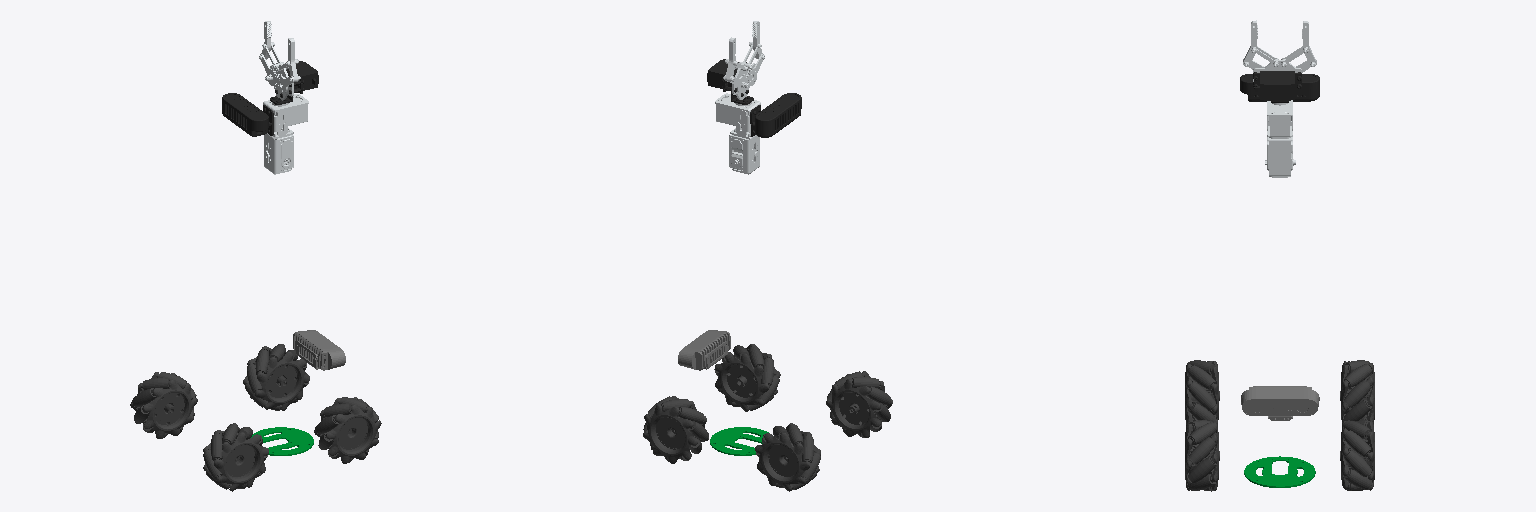
--- What the picture shows (computed from the rendered views, not written in the file) ---
Views: 3 orthographic renders of the robot side by side, from view 1: azimuth 30°, elevation 25°; view 2: azimuth 150°, elevation 25°; view 3: azimuth 270°, elevation 25°.
Model M3Pro with 20 links and 19 joints (11 revolute, 5 continuous, 3 fixed), rooted at base_link, posed all joints at 0.
Visible links, largest first — view 1: rwheel2, lwheel2, rwheel1, lwheel1, arm4, DCW2, Camera, arm_base_Link, arm5; view 2: lwheel2, lwheel1, rwheel2, rwheel1, arm4, DCW2, Camera, arm_base_Link, arm5; view 3: lwheel1, rwheel1, Camera, rwheel2, lwheel2, arm4, arm_base_Link, arm5, DCW2.
Link boxes in pixels (bbox=[...]): rwheel2: bbox=[203, 423, 268, 491]; lwheel2: bbox=[130, 372, 197, 438]; rwheel1: bbox=[314, 397, 381, 463]; lwheel1: bbox=[243, 344, 309, 410]; arm4: bbox=[263, 94, 308, 174]; DCW2: bbox=[222, 93, 273, 136]; Camera: bbox=[293, 330, 345, 370]; arm_base_Link: bbox=[251, 427, 313, 455]; arm5: bbox=[270, 61, 318, 104]; lwheel2: bbox=[755, 423, 820, 491]; lwheel1: bbox=[643, 396, 708, 463]; rwheel2: bbox=[826, 371, 892, 437]; rwheel1: bbox=[714, 344, 780, 411]; arm4: bbox=[715, 93, 760, 174]; DCW2: bbox=[750, 93, 801, 137]; Camera: bbox=[678, 330, 730, 370]; arm_base_Link: bbox=[710, 427, 768, 455]; arm5: bbox=[707, 59, 753, 104]; lwheel1: bbox=[1340, 420, 1374, 490]; rwheel1: bbox=[1185, 420, 1219, 491]; Camera: bbox=[1241, 386, 1319, 420]; rwheel2: bbox=[1185, 360, 1219, 425]; lwheel2: bbox=[1340, 360, 1374, 423]; arm4: bbox=[1265, 100, 1295, 177]; arm_base_Link: bbox=[1244, 456, 1315, 487]; arm5: bbox=[1253, 71, 1301, 102]; DCW2: bbox=[1240, 74, 1319, 101].
Size in the robot's own frame: 0.239 by 0.2124 by 0.5577 metres.
Meshes: 20 distinct files referenced, 16 mesh visuals loaded (16 binary STL); not drawn: 4 (reference not matched to a file when rendering).

The robot description file, URDF, robot "M3Pro":
<?xml version="1.0" encoding="utf-8"?>
<!-- This URDF was automatically created by SolidWorks to URDF Exporter! Originally created by Stephen Brawner ([email redacted]) 
     Commit Version: 1.6.0-1-g15f4949  Build Version: 1.6.7594.29634
     For more information, please see http://wiki.ros.org/sw_urdf_exporter -->
<robot
  name="M3Pro">
  <link
    name="base_link">
    <inertial>
      <origin
        xyz="-0.0230945655800945 -0.000624366433481225 0.0924263074305092"
        rpy="0 0 0" />
      <mass
        value="0.870994544286568" />
      <inertia
        ixx="0.000924360334406296"
        ixy="1.83790425775432E-06"
        ixz="-6.57330050239333E-05"
        iyy="0.000965356496722674"
        iyz="4.19061203028733E-07"
        izz="0.00166592475388463" />
    </inertial>
    <visual>
      <origin
        xyz="0 0 0"
        rpy="0 0 0" />
      <geometry>
        <mesh
          filename="package://yahboom_M3Pro_description/meshes/base_link.STL" />
      </geometry>
      <material
        name="">
        <color
          rgba="0.501960784313725 0.501960784313725 0.501960784313725 1" />
      </material>
    </visual>
    <collision>
      <origin
        xyz="0 0 0"
        rpy="0 0 0" />
      <geometry>
        <mesh
          filename="package://yahboom_M3Pro_description/meshes/base_link.STL" />
      </geometry>
    </collision>
  </link>
  <link
    name="arm1">
    <inertial>
      <origin
        xyz="2.13576742485247E-05 -2.28857785706467E-05 0.0108850983929158"
        rpy="0 0 0" />
      <mass
        value="0.0244386203628613" />
      <inertia
        ixx="4.13079555955957E-06"
        ixy="-1.72852152063151E-08"
        ixz="-1.39537126643453E-11"
        iyy="3.52401933966849E-06"
        iyz="-4.29462638561802E-15"
        izz="6.04483581225878E-06" />
    </inertial>
    <visual>
      <origin
        xyz="0 0 0"
        rpy="0 0 0" />
      <geometry>
        <mesh
          filename="package://yahboom_M3Pro_description/meshes/arm1.STL" />
      </geometry>
      <material
        name="">
        <color
          rgba="0.776470588235294 0.756862745098039 0.737254901960784 1" />
      </material>
    </visual>
    <collision>
      <origin
        xyz="0 0 0"
        rpy="0 0 0" />
      <geometry>
        <mesh
          filename="package://yahboom_M3Pro_description/meshes/arm1.STL" />
      </geometry>
    </collision>
  </link>
  <joint
    name="arm1_Joint"
    type="revolute">
    <origin
      xyz="0.033617 -1.2421E-05 0.185"
      rpy="6.3751E-05 0 0.028395" />
    <parent
      link="base_link" />
    <child
      link="arm1" />
    <axis
      xyz="0 0 1" />
    <limit
      lower="-1.5708"
      upper="1.5708"
      effort="100"
      velocity="1" />
  </joint>
  <link
    name="arm2">
    <inertial>
      <origin
        xyz="-0.000602027217738395 -9.2755825148514E-05 0.0264032863094033"
        rpy="0 0 0" />
      <mass
        value="0.061498670238648" />
      <inertia
        ixx="2.10648493212753E-05"
        ixy="1.83881276274714E-11"
        ixz="-1.39661642924236E-11"
        iyy="1.64229081716352E-05"
        iyz="3.60299486579141E-08"
        izz="9.72287810088419E-06" />
    </inertial>
    <visual>
      <origin
        xyz="0 0 0"
        rpy="0 0 0" />
      <geometry>
        <mesh
          filename="package://yahboom_M3Pro_description/meshes/arm2.STL" />
      </geometry>
      <material
        name="">
        <color
          rgba="0.898039215686275 0.917647058823529 0.929411764705882 1" />
      </material>
    </visual>
    <collision>
      <origin
        xyz="0 0 0"
        rpy="0 0 0" />
      <geometry>
        <mesh
          filename="package://yahboom_M3Pro_description/meshes/arm2.STL" />
      </geometry>
    </collision>
  </link>
  <joint
    name="arm2_Joint"
    type="revolute">
    <origin
      xyz="-0.0021522 6.1185E-05 0.033"
      rpy="-6.3725E-05 0 -0.028422" />
    <parent
      link="arm1" />
    <child
      link="arm2" />
    <axis
      xyz="0 -1 -6.3725E-05" />
    <limit
      lower="-1.5708"
      upper="1.5708"
      effort="100"
      velocity="1" />
  </joint>
  <link
    name="arm3">
    <inertial>
      <origin
        xyz="-0.000604373973045174 -7.46161728471504E-05 0.0258332880744843"
        rpy="0 0 0" />
      <mass
        value="0.0614986702381331" />
      <inertia
        ixx="2.10614227624559E-05"
        ixy="-1.2572378834838E-07"
        ixz="9.50458735304178E-10"
        iyy="1.64263399723813E-05"
        iyz="3.55900353840793E-08"
        izz="9.72287285883381E-06" />
    </inertial>
    <visual>
      <origin
        xyz="0 0 0"
        rpy="0 0 0" />
      <geometry>
        <mesh
          filename="package://yahboom_M3Pro_description/meshes/arm3.STL" />
      </geometry>
      <material
        name="">
        <color
          rgba="0.898039215686275 0.917647058823529 0.929411764705882 1" />
      </material>
    </visual>
    <collision>
      <origin
        xyz="0 0 0"
        rpy="0 0 0" />
      <geometry>
        <mesh
          filename="package://yahboom_M3Pro_description/meshes/arm3.STL" />
      </geometry>
    </collision>
  </link>
  <joint
    name="arm3_Joint"
    type="revolute">
    <origin
      xyz="0 0 0.08285"
      rpy="6.3702E-05 0 0.027102" />
    <parent
      link="arm2" />
    <child
      link="arm3" />
    <axis
      xyz="-0.027098 -0.99963 0" />
    <limit
      lower="-1.5708"
      upper="1.5708"
      effort="100"
      velocity="1" />
  </joint>
  <link
    name="arm4">
    <inertial>
      <origin
        xyz="0.00266200549544014 -5.48340040400364E-05 0.0318372301190443"
        rpy="0 0 0" />
      <mass
        value="0.0796731880981648" />
      <inertia
        ixx="1.74813997707965E-05"
        ixy="7.13964256475848E-11"
        ixz="-3.68971805126897E-07"
        iyy="1.97458440715167E-05"
        iyz="3.56144432379185E-08"
        izz="1.24210495582304E-05" />
    </inertial>
    <visual>
      <origin
        xyz="0 0 0"
        rpy="0 0 0" />
      <geometry>
        <mesh
          filename="package://yahboom_M3Pro_description/meshes/arm4.STL" />
      </geometry>
      <material
        name="">
        <color
          rgba="0.898039215686275 0.917647058823529 0.929411764705882 1" />
      </material>
    </visual>
    <collision>
      <origin
        xyz="0 0 0"
        rpy="0 0 0" />
      <geometry>
        <mesh
          filename="package://yahboom_M3Pro_description/meshes/arm4.STL" />
      </geometry>
    </collision>
  </link>
  <joint
    name="arm4_Joiint"
    type="revolute">
    <origin
      xyz="0 0 0.08285"
      rpy="0 0 -0.027075" />
    <parent
      link="arm3" />
    <child
      link="arm4" />
    <axis
      xyz="-2.6392E-05 -1 0" />
    <limit
      lower="-1.5708"
      upper="1.5708"
      effort="100"
      velocity="1" />
  </joint>
  <link
    name="arm5">
    <inertial>
      <origin
        xyz="0.0185860770163253 -0.00247043277342297 0.02651885056664"
        rpy="0 0 0" />
      <mass
        value="0.0410487746889131" />
      <inertia
        ixx="5.48142441634619E-06"
        ixy="-1.68884783349536E-08"
        ixz="-2.34748082215953E-08"
        iyy="1.91426924767358E-06"
        iyz="6.10349739295658E-13"
        izz="5.25321280573642E-06" />
    </inertial>
    <visual>
      <origin
        xyz="0 0 0"
        rpy="0 0 0" />
      <geometry>
        <mesh
          filename="package://yahboom_M3Pro_description/meshes/arm5.STL" />
      </geometry>
      <material
        name="">
        <color
          rgba="0.203921568627451 0.203921568627451 0.203921568627451 1" />
      </material>
    </visual>
    <collision>
      <origin
        xyz="0 0 0"
        rpy="0 0 0" />
      <geometry>
        <mesh
          filename="package://yahboom_M3Pro_description/meshes/arm5.STL" />
      </geometry>
    </collision>
  </link>
  <joint
    name="arm5_Joint"
    type="revolute">
    <origin
      xyz="0.00057305 0 0.074815"
      rpy="0 0 0" />
    <parent
      link="arm4" />
    <child
      link="arm5" />
    <axis
      xyz="0 0 1" />
    <limit
      lower="-1.5708"
      upper="1.5708"
      effort="100"
      velocity="1" />
  </joint>
  <link
    name="rlink1">
    <inertial>
      <origin
        xyz="0.00808925422025075 0.000355297443366931 -0.000464636431050911"
        rpy="0 0 0" />
      <mass
        value="0.00469661998528202" />
      <inertia
        ixx="1.02155544192725E-07"
        ixy="1.52484505407808E-08"
        ixz="-5.46876412347999E-14"
        iyy="4.52970831763651E-07"
        iyz="2.17247345042744E-13"
        izz="5.45544786553635E-07" />
    </inertial>
    <visual>
      <origin
        xyz="0 0 0"
        rpy="0 0 0" />
      <geometry>
        <mesh
          filename="package://yahboom_M3Pro_description/meshes/rlink1.STL" />
      </geometry>
      <material
        name="">
        <color
          rgba="0.898039215686275 0.917647058823529 0.929411764705882 1" />
      </material>
    </visual>
    <collision>
      <origin
        xyz="0 0 0"
        rpy="0 0 0" />
      <geometry>
        <mesh
          filename="package://yahboom_M3Pro_description/meshes/rlink1.STL" />
      </geometry>
    </collision>
  </link>
  <joint
    name="rlink1_Joint"
    type="revolute">
    <origin
      xyz="-0.0047503 -0.012625 0.029275"
      rpy="1.5708 -0.60409 -1.5708" />
    <parent
      link="arm5" />
    <child
      link="rlink1" />
    <axis
      xyz="0 0 -1" />
    <limit
      lower="-0.95"
      upper="0"
      effort="100"
      velocity="1" />
  </joint>
  <link
    name="rlink2">
    <inertial>
      <origin
        xyz="0.0225651191673617 0.00616269153903409 -0.0050000000000042"
        rpy="0 0 0" />
      <mass
        value="0.0061448729710299" />
      <inertia
        ixx="8.70635496412126E-08"
        ixy="-2.41958577832852E-07"
        ixz="-4.82763186156989E-21"
        iyy="1.49816948769928E-06"
        iyz="-8.06090738107193E-22"
        izz="1.57601572788395E-06" />
    </inertial>
    <visual>
      <origin
        xyz="0 0 0"
        rpy="0 0 0" />
      <geometry>
        <mesh
          filename="package://yahboom_M3Pro_description/meshes/rlink2.STL" />
      </geometry>
      <material
        name="">
        <color
          rgba="0.898039215686275 0.917647058823529 0.929411764705882 1" />
      </material>
    </visual>
    <collision>
      <origin
        xyz="0 0 0"
        rpy="0 0 0" />
      <geometry>
        <mesh
          filename="package://yahboom_M3Pro_description/meshes/rlink2.STL" />
      </geometry>
    </collision>
  </link>
  <joint
    name="rlink2_Joint"
    type="continuous">
    <origin
      xyz="0.03 0 0.001"
      rpy="0 0 0.9667" />
    <parent
      link="rlink1" />
    <child
      link="rlink2" />
    <axis
      xyz="0 0 1" />
    <mimic
      joint="rlink1_Joint"
      multiplier="1"
      offset="0" />
  </joint>
  <link
    name="llink1">
    <inertial>
      <origin
        xyz="0.00884602685100822 -0.000341813272146108 -0.00016945594279958"
        rpy="0 0 0" />
      <mass
        value="0.00426700564861881" />
      <inertia
        ixx="8.84336001135263E-08"
        ixy="-1.30950315021427E-08"
        ixz="2.18756702456485E-14"
        iyy="4.55511896537778E-07"
        iyz="1.2193651328645E-14"
        izz="5.36665215268909E-07" />
    </inertial>
    <visual>
      <origin
        xyz="0 0 0"
        rpy="0 0 0" />
      <geometry>
        <mesh
          filename="package://yahboom_M3Pro_description/meshes/llink1.STL" />
      </geometry>
      <material
        name="">
        <color
          rgba="0.898039215686275 0.917647058823529 0.929411764705882 1" />
      </material>
    </visual>
    <collision>
      <origin
        xyz="0 0 0"
        rpy="0 0 0" />
      <geometry>
        <mesh
          filename="package://yahboom_M3Pro_description/meshes/llink1.STL" />
      </geometry>
    </collision>
  </link>
  <joint
    name="llink1_Joint"
    type="continuous">
    <origin
      xyz="-0.0044997 0.012375 0.029275"
      rpy="-1.5708 -0.60318 1.5708" />
    <parent
      link="arm5" />
    <child
      link="llink1" />
    <axis
      xyz="0 0 1" />
    <mimic
      joint="rlink1_Joint"
      multiplier="1"
      offset="0" />
  </joint>
  <link
    name="llink2">
    <inertial>
      <origin
        xyz="0.0226281369502883 -0.00592712309529711 -0.00525000000000398"
        rpy="0 0 0" />
      <mass
        value="0.0061448729710299" />
      <inertia
        ixx="8.21725042549684E-08"
        ixy="2.27196496174757E-07"
        ixz="-9.0829521896073E-21"
        iyy="1.50306053308553E-06"
        iyz="1.34351902937085E-21"
        izz="1.57601572788395E-06" />
    </inertial>
    <visual>
      <origin
        xyz="0 0 0"
        rpy="0 0 0" />
      <geometry>
        <mesh
          filename="package://yahboom_M3Pro_description/meshes/llink2.STL" />
      </geometry>
      <material
        name="">
        <color
          rgba="0.898039215686275 0.917647058823529 0.929411764705882 1" />
      </material>
    </visual>
    <collision>
      <origin
        xyz="0 0 0"
        rpy="0 0 0" />
      <geometry>
        <mesh
          filename="package://yahboom_M3Pro_description/meshes/llink2.STL" />
      </geometry>
    </collision>
  </link>
  <joint
    name="llink2_Joint"
    type="continuous">
    <origin
      xyz="0.03 0 0.00125"
      rpy="0 0 -0.96762" />
    <parent
      link="llink1" />
    <child
      link="llink2" />
    <axis
      xyz="0 0 1" />
    <mimic
      joint="rlink1_Joint"
      multiplier="-1"
      offset="0" />
  </joint>
  <link
    name="rlink3">
    <inertial>
      <origin
        xyz="0.0147913116377826 -6.00954347396154E-09 -0.00271410065781013"
        rpy="0 0 0" />
      <mass
        value="0.00270971831665017" />
      <inertia
        ixx="9.18474957109399E-09"
        ixy="-3.01596710140765E-18"
        ixz="-2.75331334941317E-20"
        iyy="1.63607734900967E-07"
        iyz="-7.81375037841199E-16"
        izz="1.63254833713142E-07" />
    </inertial>
    <visual>
      <origin
        xyz="0 0 0"
        rpy="0 0 0" />
      <geometry>
        <mesh
          filename="package://yahboom_M3Pro_description/meshes/rlink3.STL" />
      </geometry>
      <material
        name="">
        <color
          rgba="0.898039215686275 0.917647058823529 0.929411764705882 1" />
      </material>
    </visual>
    <collision>
      <origin
        xyz="0 0 0"
        rpy="0 0 0" />
      <geometry>
        <mesh
          filename="package://yahboom_M3Pro_description/meshes/rlink3.STL" />
      </geometry>
    </collision>
  </link>
  <joint
    name="rlink3_Joint"
    type="continuous">
    <origin
      xyz="-0.0045001 -0.0044999 0.047275"
      rpy="1.5708 -0.61261 -1.5708" />
    <parent
      link="arm5" />
    <child
      link="rlink3" />
    <axis
      xyz="0 0 1" />
    <mimic
      joint="rlink1_Joint"
      multiplier="-1"
      offset="0" />
  </joint>
  <link
    name="llink3">
    <inertial>
      <origin
        xyz="0.0147913116377242 -8.49320613838245E-15 -0.00271410065781674"
        rpy="0 0 0" />
      <mass
        value="0.00270971831665017" />
      <inertia
        ixx="9.18474957533229E-09"
        ixy="-1.99555668417193E-19"
        ixz="4.30043464580738E-20"
        iyy="1.63607734896731E-07"
        iyz="1.5019648698602E-20"
        izz="1.63254833713141E-07" />
    </inertial>
    <visual>
      <origin
        xyz="0 0 0"
        rpy="0 0 0" />
      <geometry>
        <mesh
          filename="package://yahboom_M3Pro_description/meshes/llink3.STL" />
      </geometry>
      <material
        name="">
        <color
          rgba="0.898039215686275 0.917647058823529 0.929411764705882 1" />
      </material>
    </visual>
    <collision>
      <origin
        xyz="0 0 0"
        rpy="0 0 0" />
      <geometry>
        <mesh
          filename="package://yahboom_M3Pro_description/meshes/llink3.STL" />
      </geometry>
    </collision>
  </link>
  <joint
    name="llink3_Joint"
    type="continuous">
    <origin
      xyz="-0.0044999 0.0045001 0.047275"
      rpy="-1.5708 -0.61516 1.5708" />
    <parent
      link="arm5" />
    <child
      link="llink3" />
    <axis
      xyz="0 0 1" />
    <mimic
      joint="rlink1_Joint"
      multiplier="1"
      offset="0" />
  </joint>
  <link
    name="Gripping">
    <inertial>
      <origin
        xyz="-0.065246396386458 -0.00180281818739334 -0.00162356166886771"
        rpy="0 0 0" />
      <mass
        value="0.0122493178431464" />
      <inertia
        ixx="2.39268476633204E-06"
        ixy="2.46226021055361E-08"
        ixz="-2.26591157073366E-11"
        iyy="1.54800679852484E-06"
        iyz="-2.45567123669388E-10"
        izz="3.922338530366E-06" />
    </inertial>
    <visual>
      <origin
        xyz="0 0 0"
        rpy="0 0 0" />
      <geometry>
        <mesh
          filename="package://yahboom_M3Pro_description/meshes/Gripping.STL" />
      </geometry>
      <material
        name="">
        <color
          rgba="0.898039215686275 0.917647058823529 0.929411764705882 1" />
      </material>
    </visual>
    <collision>
      <origin
        xyz="0 0 0"
        rpy="0 0 0" />
      <geometry>
        <mesh
          filename="package://yahboom_M3Pro_description/meshes/Gripping.STL" />
      </geometry>
    </collision>
  </link>
  <joint
    name="Gripping_Joint"
    type="fixed">
    <origin
      xyz="-0.00062499 0.00023987 0.093235"
      rpy="-0.041648 -1.5708 0.041619" />
    <parent
      link="arm5" />
    <child
      link="Gripping" />
    <axis
      xyz="0 0 0" />
  </joint>
  <link
    name="DCW2">
    <inertial>
      <origin
        xyz="-0.0010931061799368 -0.00121369453546972 -0.00157232793977877"
        rpy="0 0 0" />
      <mass
        value="0.0499103575203649" />
      <inertia
        ixx="3.00280511823901E-05"
        ixy="4.70947453750842E-07"
        ixz="-2.03921169866268E-08"
        iyy="5.42980165740292E-06"
        iyz="7.10569257695082E-07"
        izz="2.96703865656498E-05" />
    </inertial>
    <visual>
      <origin
        xyz="0 0 0"
        rpy="0 0 0" />
      <geometry>
        <mesh
          filename="package://yahboom_M3Pro_description/meshes/DCW2.STL" />
      </geometry>
      <material
        name="">
        <color
          rgba="0.203921568627451 0.203921568627451 0.203921568627451 1" />
      </material>
    </visual>
    <collision>
      <origin
        xyz="0 0 0"
        rpy="0 0 0" />
      <geometry>
        <mesh
          filename="package://yahboom_M3Pro_description/meshes/DCW2.STL" />
      </geometry>
    </collision>
  </link>
  <joint
    name="DCW2_Joint"
    type="fixed">
    <origin
      xyz="-0.0483883323542816 0.00245180097510241 0.0671900000306381"
      rpy="1.84287098025439 -1.57079631189374 -1.81447538896515" />
    <parent
      link="arm4" />
    <child
      link="DCW2" />
    <axis
      xyz="0 0 0" />
  </joint>
  <link
    name="Camera">
    <inertial>
      <origin
        xyz="-0.00515993234293903 0.0171562859692142 -5.08017211667516E-05"
        rpy="0 0 0" />
      <mass
        value="0.0538583185137286" />
      <inertia
        ixx="3.00166743314331E-05"
        ixy="1.20730583158248E-07"
        ixz="-3.90056689663612E-08"
        iyy="3.10135562801751E-05"
        iyz="2.26188772216957E-09"
        izz="5.78331989998345E-06" />
    </inertial>
    <visual>
      <origin
        xyz="0 0 0"
        rpy="0 0 0" />
      <geometry>
        <mesh
          filename="package://yahboom_M3Pro_description/meshes/Camera.STL" />
      </geometry>
      <material
        name="">
        <color
          rgba="0.501960784313725 0.501960784313725 0.501960784313725 1" />
      </material>
    </visual>
    <collision>
      <origin
        xyz="0 0 0"
        rpy="0 0 0" />
      <geometry>
        <mesh
          filename="package://yahboom_M3Pro_description/meshes/Camera.STL" />
      </geometry>
    </collision>
  </link>
  <joint
    name="Camera_Joint"
    type="revolute">
    <origin
      xyz="0.0909154688773379 0.000198272120369507 0.0934842113675051"
      rpy="1.5707963267949 0 0" />
    <parent
      link="base_link" />
    <child
      link="Camera" />
    <axis
      xyz="0 0 -1" />
    <limit
      lower="0"
      upper="0"
      effort="0"
      velocity="0" />
  </joint>
  <link
    name="lwheel1">
    <inertial>
      <origin
        xyz="-2.05401095824953E-06 1.7379895593389E-06 0.0108532997143464"
        rpy="0 0 0" />
      <mass
        value="0.0973137194820634" />
      <inertia
        ixx="4.4524583220077E-05"
        ixy="-1.31175451437957E-10"
        ixz="2.4691417638339E-09"
        iyy="4.45241370387487E-05"
        iyz="-4.9776391261432E-10"
        izz="7.45963443980609E-05" />
    </inertial>
    <visual>
      <origin
        xyz="0 0 0"
        rpy="0 0 0" />
      <geometry>
        <mesh
          filename="package://yahboom_M3Pro_description/meshes/lwheel1.STL" />
      </geometry>
      <material
        name="">
        <color
          rgba="0.298039215686275 0.298039215686275 0.298039215686275 1" />
      </material>
    </visual>
    <collision>
      <origin
        xyz="0 0 0"
        rpy="0 0 0" />
      <geometry>
        <mesh
          filename="package://yahboom_M3Pro_description/meshes/lwheel1.STL" />
      </geometry>
    </collision>
  </link>
  <joint
    name="lwheel1_Joint"
    type="revolute">
    <origin
      xyz="0.0775753787975409 0.09775 0.0399999999999998"
      rpy="1.5707963267949 0 0" />
    <parent
      link="base_link" />
    <child
      link="lwheel1" />
    <axis
      xyz="0 0 -1" />
    <limit
      lower="0"
      upper="0"
      effort="0"
      velocity="0" />
  </joint>
  <link
    name="lwheel2">
    <inertial>
      <origin
        xyz="2.42861370669534E-06 -1.02166504497431E-06 0.0108534142995862"
        rpy="0 0 0" />
      <mass
        value="0.0973122316398678" />
      <inertia
        ixx="4.45239800389606E-05"
        ixy="5.44905586072809E-10"
        ixz="-1.65438105294921E-09"
        iyy="4.4523414197166E-05"
        iyz="1.94456478478346E-09"
        izz="7.45956879489215E-05" />
    </inertial>
    <visual>
      <origin
        xyz="0 0 0"
        rpy="0 0 0" />
      <geometry>
        <mesh
          filename="package://yahboom_M3Pro_description/meshes/lwheel2.STL" />
      </geometry>
      <material
        name="">
        <color
          rgba="0.298039215686275 0.298039215686275 0.298039215686275 1" />
      </material>
    </visual>
    <collision>
      <origin
        xyz="0 0 0"
        rpy="0 0 0" />
      <geometry>
        <mesh
          filename="package://yahboom_M3Pro_description/meshes/lwheel2.STL" />
      </geometry>
    </collision>
  </link>
  <joint
    name="lwheel2_Joint"
    type="revolute">
    <origin
      xyz="-0.0814246212024597 0.0977499999999995 0.0399976951545867"
      rpy="1.5707963267949 0 0" />
    <parent
      link="base_link" />
    <child
      link="lwheel2" />
    <axis
      xyz="0 0 -1" />
    <limit
      lower="0"
      upper="0"
      effort="0"
      velocity="0" />
  </joint>
  <link
    name="rwheel1">
    <inertial>
      <origin
        xyz="2.62390154395775E-07 -2.62170342759521E-06 0.0108534192340525"
        rpy="0 0 0" />
      <mass
        value="0.0973120453861561" />
      <inertia
        ixx="4.45238867717884E-05"
        ixy="-5.05986927522554E-10"
        ixz="1.0621208678827E-09"
        iyy="4.45233693169386E-05"
        iyz="2.30774857834867E-09"
        izz="7.45955722950589E-05" />
    </inertial>
    <visual>
      <origin
        xyz="0 0 0"
        rpy="0 0 0" />
      <geometry>
        <mesh
          filename="package://yahboom_M3Pro_description/meshes/rwheel1.STL" />
      </geometry>
      <material
        name="">
        <color
          rgba="0.298039215686275 0.298039215686275 0.298039215686275 1" />
      </material>
    </visual>
    <collision>
      <origin
        xyz="0 0 0"
        rpy="0 0 0" />
      <geometry>
        <mesh
          filename="package://yahboom_M3Pro_description/meshes/rwheel1.STL" />
      </geometry>
    </collision>
  </link>
  <joint
    name="rwheel1_Joint"
    type="revolute">
    <origin
      xyz="0.0775753787975429 -0.0977499999999993 0.0400000000000004"
      rpy="-1.5707963267949 0 0" />
    <parent
      link="base_link" />
    <child
      link="rwheel1" />
    <axis
      xyz="0 0 -1" />
    <limit
      lower="0"
      upper="0"
      effort="0"
      velocity="0" />
  </joint>
  <link
    name="rwheel2">
    <inertial>
      <origin
        xyz="-2.6913354038427E-06 -2.97755697348245E-07 0.0108533056312037"
        rpy="0 0 0" />
      <mass
        value="0.097313675800621" />
      <inertia
        ixx="4.4524453695162E-05"
        ixy="2.2715730620874E-10"
        ixz="2.05834405085449E-09"
        iyy="4.45242493323169E-05"
        iyz="1.44511222079578E-09"
        izz="7.45963268192702E-05" />
    </inertial>
    <visual>
      <origin
        xyz="0 0 0"
        rpy="0 0 0" />
      <geometry>
        <mesh
          filename="package://yahboom_M3Pro_description/meshes/rwheel2.STL" />
      </geometry>
      <material
        name="">
        <color
          rgba="0.298039215686275 0.298039215686275 0.298039215686275 1" />
      </material>
    </visual>
    <collision>
      <origin
        xyz="0 0 0"
        rpy="0 0 0" />
      <geometry>
        <mesh
          filename="package://yahboom_M3Pro_description/meshes/rwheel2.STL" />
      </geometry>
    </collision>
  </link>
  <joint
    name="rwheel2_Joint"
    type="revolute">
    <origin
      xyz="-0.0814246212024577 -0.0977500000000009 0.0399976951545873"
      rpy="-1.5707963267949 0 0" />
    <parent
      link="base_link" />
    <child
      link="rwheel2" />
    <axis
      xyz="0 0 -1" />
    <limit
      lower="0"
      upper="0"
      effort="0"
      velocity="0" />
  </joint>
  <link
    name="arm_base_Link">
    <inertial>
      <origin
        xyz="0.00204023926194582 -5.80026689164584E-05 -0.00100000000000003"
        rpy="0 0 0" />
      <mass
        value="0.00784879332432182" />
      <inertia
        ixx="3.56236585757393E-06"
        ixy="-1.35032184567405E-10"
        ixz="-1.66362055886718E-21"
        iyy="3.55761995010773E-06"
        iyz="-1.11258635821738E-20"
        izz="7.11475327879878E-06" />
    </inertial>
    <visual>
      <origin
        xyz="0 0 0"
        rpy="0 0 0" />
      <geometry>
        <mesh
          filename="package://dofbot_M3Pro_descripton/meshes/arm_base_Link.STL" />
      </geometry>
        
      <material
        name="">
        <color
          rgba="0 0.627450980392157 0.235294117647059 1" />
      </material>
    </visual>
    <collision>
      <origin
        xyz="0 0 0"
        rpy="0 0 0" />
      <geometry>
        <mesh
          filename="package://dofbot_M3Pro_descripton/meshes/arm_base_Link.STL" />
      </geometry>
    </collision>
  </link>
  <joint
    name="arm_base_Joint"
    type="fixed">
    <origin
      xyz="0.033617 -1.0031E-05 0.0"
      rpy="6.3751E-05 0 0" />
    <parent
      link="base_link" />
    <child
      link="arm_base_Link" />
    <axis
      xyz="0 0 0" />
  </joint>
</robot>
